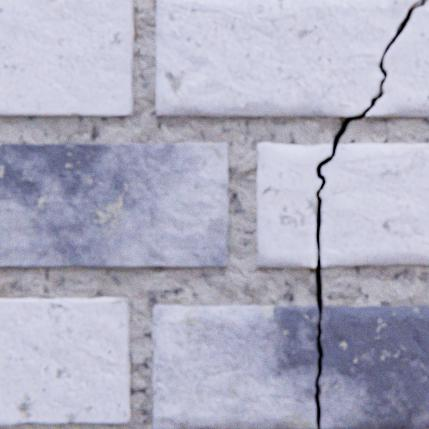brick: (0, 143, 229, 266), (0, 297, 131, 423), (0, 0, 134, 117)
broken_brick: (156, 0, 420, 116), (153, 304, 318, 428), (319, 305, 428, 428), (320, 144, 428, 266), (257, 143, 331, 267), (366, 0, 428, 117)
crack: (314, 0, 426, 428)
